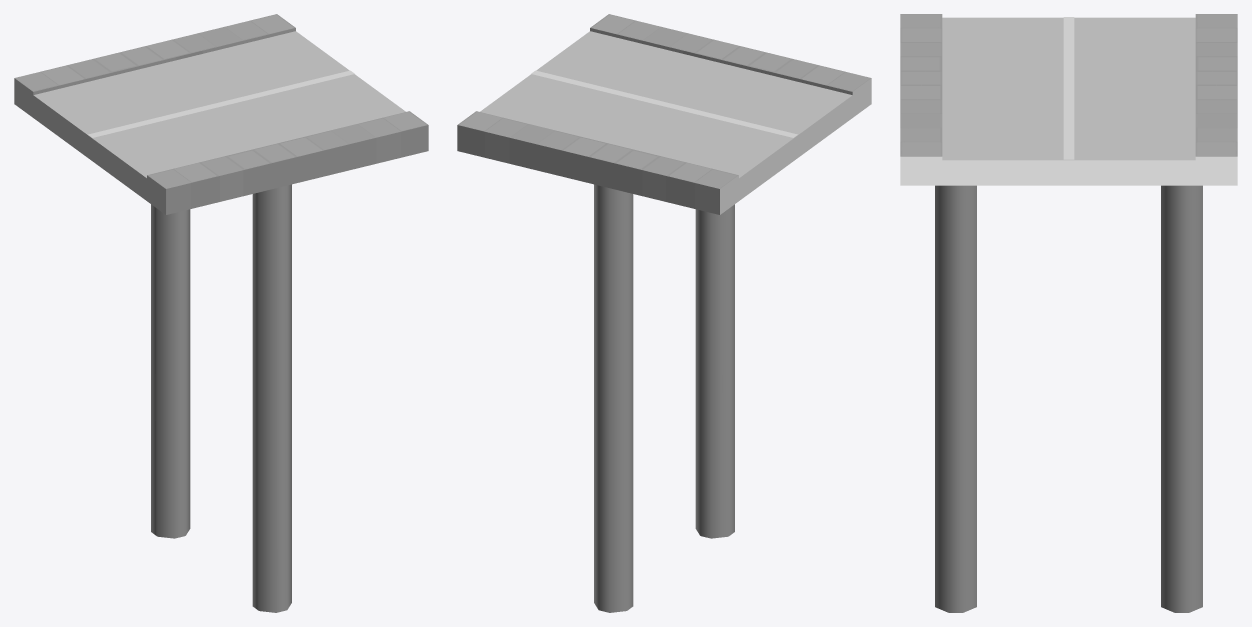
Rendered from tile_road_flyover_1x1_a.fbx.
3 renders of one model, left to right at view 1: azimuth 30°, elevation 25°; view 2: azimuth 150°, elevation 25°; view 3: azimuth 270°, elevation 25°, orthographic. The views are drawn at different scales.
Visible parts, largest first — view 1: tile_road_flyover_1x1_a; view 2: tile_road_flyover_1x1_a; view 3: tile_road_flyover_1x1_a.
Boxes of the visible parts, left/top/right/bottom form: tile_road_flyover_1x1_a: left=14, top=14, right=428, bottom=612; tile_road_flyover_1x1_a: left=457, top=14, right=871, bottom=612; tile_road_flyover_1x1_a: left=900, top=14, right=1237, bottom=612.
Size of the model in its own units: 1600 by 2713 by 1600.
